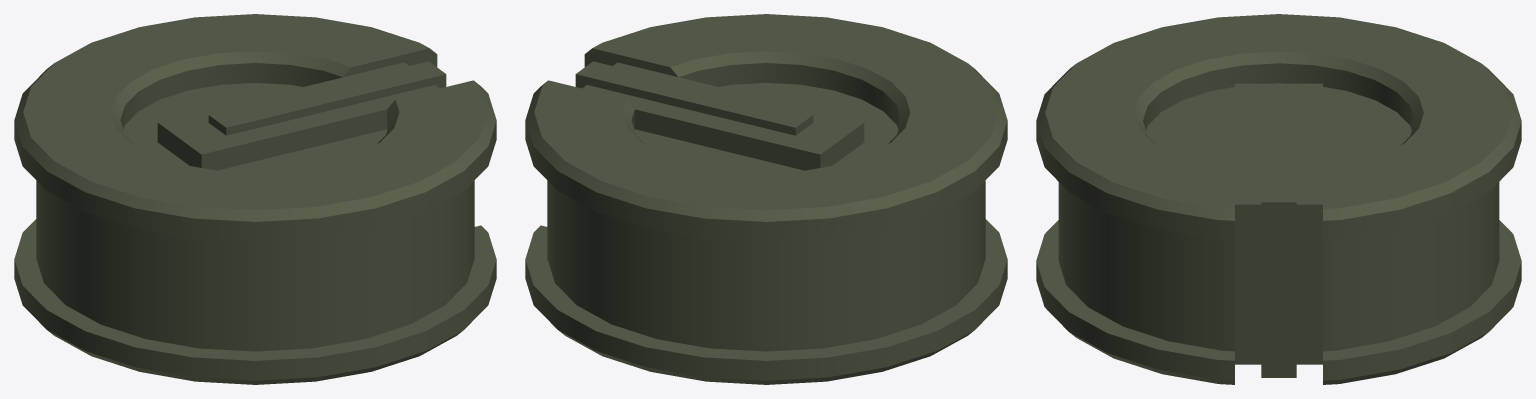
File: Mine.fbx
3 renders of one model, left to right at view 1: azimuth 30°, elevation 25°; view 2: azimuth 150°, elevation 25°; view 3: azimuth 270°, elevation 25°, orthographic.
Visible parts, largest first — view 1: Mine_1; view 2: Mine_1; view 3: Mine_1.
Part boxes in pixels (x1,y1,x2,y2): Mine_1: [14, 14, 496, 384]; Mine_1: [525, 14, 1007, 384]; Mine_1: [1036, 14, 1521, 384].
Size of the model in its own units: 10.88 by 4.4 by 11.01.
